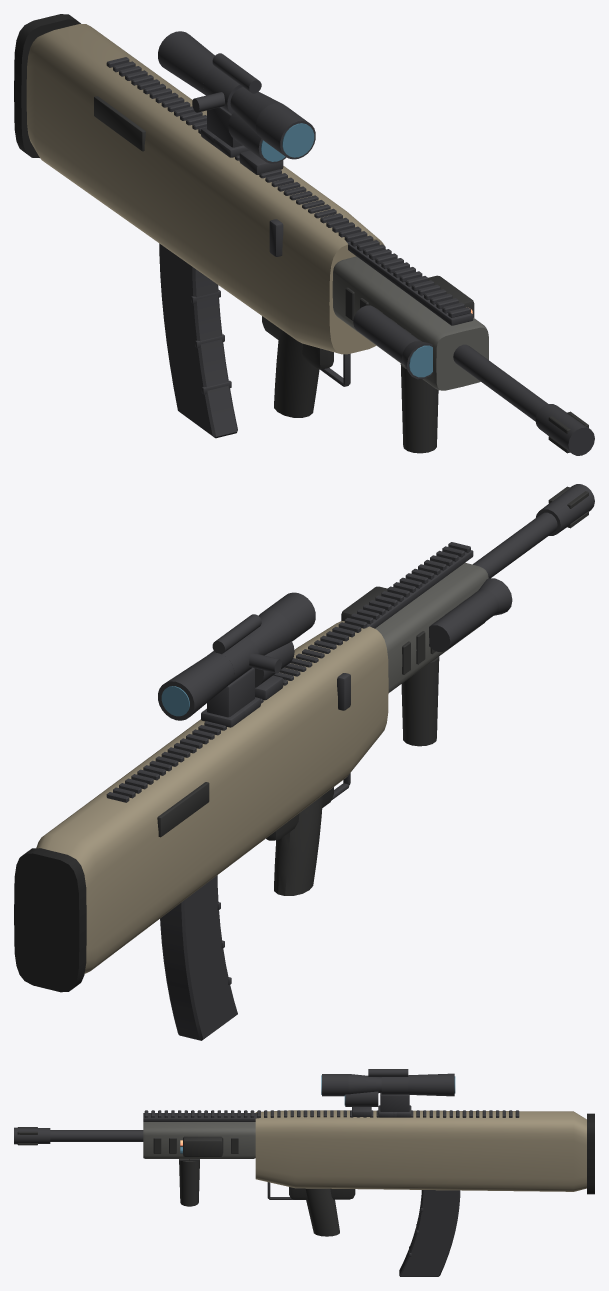
File: stork4.glb
3 views of the same model, one above another, from view 1: azimuth 30°, elevation 25°; view 2: azimuth 150°, elevation 25°; view 3: azimuth 270°, elevation 25° (orthographic). The views are drawn at different scales.
Parts seen in each view (by area): view 1: Body, opt_scope; view 2: Body, opt_scope; view 3: Body, opt_scope, opt_laser.
Boxes of the visible parts, x1,y1,x2,y2 form: Body: (14, 14, 594, 455); opt_scope: (158, 31, 315, 159); Body: (14, 484, 594, 1040); opt_scope: (158, 592, 315, 727); Body: (14, 1091, 594, 1276); opt_scope: (321, 1069, 455, 1117); opt_laser: (180, 1136, 222, 1156).
Bounding box in the file's own units: 0.097 × 0.341 × 0.877.
